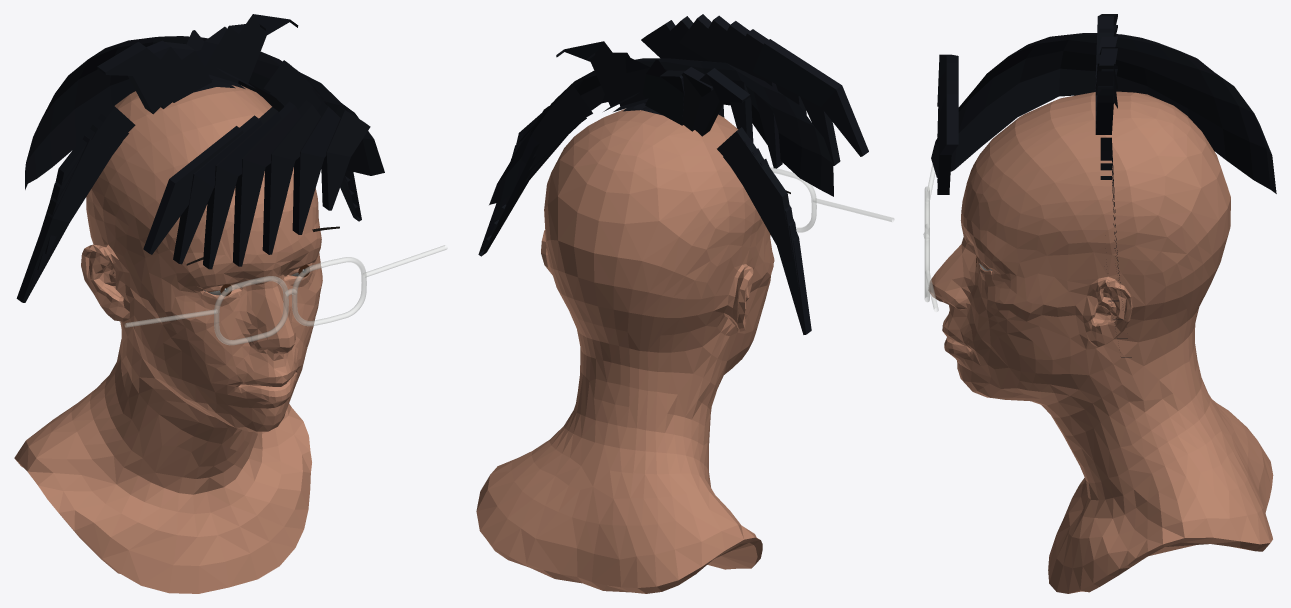
File: ernest_head_browser.glb
3 views of the same model, side by side, from view 1: azimuth 30°, elevation 25°; view 2: azimuth 150°, elevation 25°; view 3: azimuth 270°, elevation 25° (orthographic). The views are drawn at different scales.
Parts seen in each view (by area): view 1: Ernest_Head_Sculpt, Hair_FacetedCap, Hair_Blade_17, Hair_Blade_03, Hair_Blade_04, Hair_Blade_02, Hair_Blade_07, Hair_Blade_05, Hair_Blade_00, Hair_Blade_01, Hair_Blade_06, Hair_Blade_13 (+10 smaller); view 2: Ernest_Head_Sculpt, Hair_FacetedCap, Hair_Blade_00, Hair_Blade_14, Hair_Blade_18, Hair_Blade_03, Hair_Blade_01, Hair_Blade_07, Hair_Blade_04, Hair_Blade_09, Hair_Blade_17, Hair_Blade_13 (+12 smaller); view 3: Ernest_Head_Sculpt, Hair_FacetedCap, Hair_Blade_06, Hair_Blade_13, Glasses_R.
Part boxes in pixels (<box>): Ernest_Head_Sculpt: <box>14,85,322,593</box>; Hair_FacetedCap: <box>25,36,384,189</box>; Hair_Blade_17: <box>16,135,115,302</box>; Hair_Blade_03: <box>233,101,300,266</box>; Hair_Blade_04: <box>262,100,320,254</box>; Hair_Blade_02: <box>203,107,281,269</box>; Hair_Blade_07: <box>97,42,185,114</box>; Hair_Blade_05: <box>292,102,340,234</box>; Hair_Blade_00: <box>143,126,243,254</box>; Hair_Blade_01: <box>173,115,262,264</box>; Hair_Blade_06: <box>321,106,370,210</box>; Hair_Blade_13: <box>216,14,298,88</box>; Ernest_Head_Sculpt: <box>476,108,774,593</box>; Hair_FacetedCap: <box>489,58,833,204</box>; Hair_Blade_00: <box>753,39,868,156</box>; Hair_Blade_14: <box>717,127,789,231</box>; Hair_Blade_18: <box>501,86,592,208</box>; Hair_Blade_03: <box>698,15,782,168</box>; Hair_Blade_01: <box>735,29,840,165</box>; Hair_Blade_07: <box>693,68,750,136</box>; Hair_Blade_04: <box>679,14,753,142</box>; Hair_Blade_09: <box>645,70,685,125</box>; Hair_Blade_17: <box>744,159,811,334</box>; Hair_Blade_13: <box>556,41,639,111</box>; Ernest_Head_Sculpt: <box>928,91,1273,593</box>; Hair_FacetedCap: <box>931,33,1276,193</box>; Hair_Blade_06: <box>937,110,958,192</box>; Hair_Blade_13: <box>1095,71,1117,134</box>; Glasses_R: <box>924,223,929,302</box>.
Size of the model in its own units: 0.2801 by 0.4221 by 0.2564.
